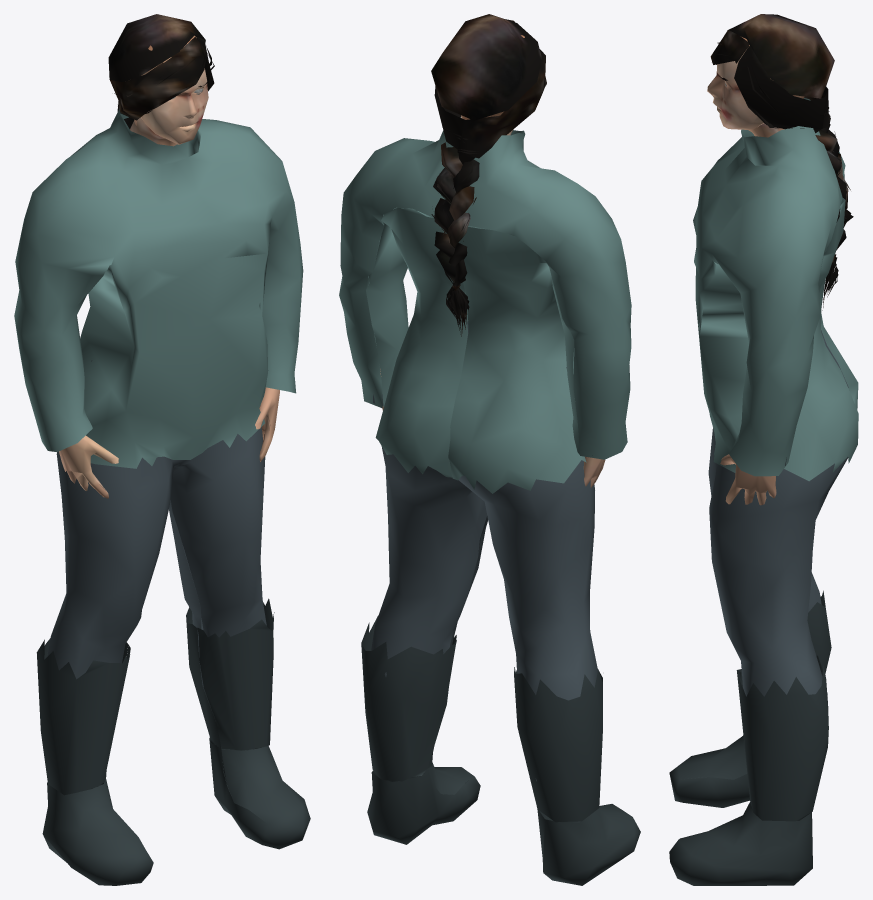
File: female-standing.glb
3 renders of one model, left to right at view 1: azimuth 30°, elevation 25°; view 2: azimuth 150°, elevation 25°; view 3: azimuth 270°, elevation 25°, orthographic. The views are drawn at different scales.
Parts seen in each view (by area): view 1: LOD_tunic, LOD_trousers, LOD_boots, LOD_hair, LOD_skin; view 2: LOD_tunic, LOD_trousers, LOD_boots, LOD_hair; view 3: LOD_tunic, LOD_boots, LOD_trousers, LOD_hair, LOD_skin.
Boxes of the visible parts, left/top/right/bottom form: LOD_tunic: left=14, top=108, right=303, bottom=468; LOD_trousers: left=47, top=360, right=266, bottom=712; LOD_boots: left=36, top=598, right=310, bottom=885; LOD_hair: left=108, top=14, right=214, bottom=128; LOD_skin: left=59, top=35, right=279, bottom=498; LOD_tunic: left=339, top=130, right=631, bottom=493; LOD_trousers: left=371, top=321, right=597, bottom=781; LOD_boots: left=361, top=615, right=640, bottom=885; LOD_hair: left=431, top=14, right=546, bottom=336; LOD_tunic: left=693, top=98, right=858, bottom=481; LOD_boots: left=669, top=590, right=831, bottom=885; LOD_trousers: left=708, top=330, right=848, bottom=696; LOD_hair: left=710, top=14, right=853, bottom=310; LOD_skin: left=707, top=37, right=804, bottom=505.
Size of the model in its own units: 0.6687 by 1.88 by 0.3922.
7 materials, 4 textured.
